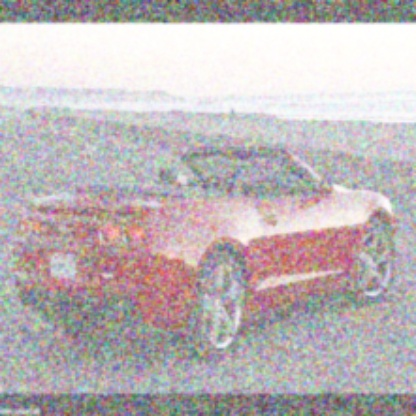Vehicle: (12, 142, 398, 367)
